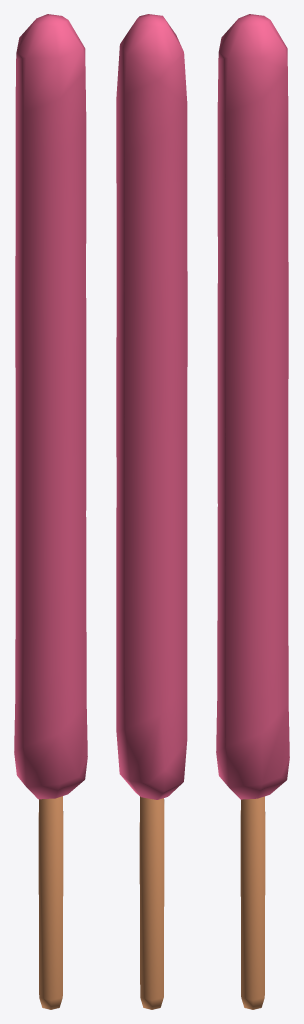
Rendered from candy_assets20.fbx.
The picture shows the model from 3 angles, left to right: view 1: azimuth 90°, elevation 25°; view 2: azimuth 210°, elevation 25°; view 3: azimuth 270°, elevation 25°; orthographic projection.
Parts seen in each view (by area): view 1: candy_assets20; view 2: candy_assets20; view 3: candy_assets20.
Part boxes in pixels (x1=…): candy_assets20: x1=14, y1=14, x2=87, y2=1009; candy_assets20: x1=116, y1=14, x2=187, y2=1009; candy_assets20: x1=216, y1=14, x2=289, y2=1009.
Bounding box in the file's own units: 83.63 × 1275 × 85.88.
Materials: 1 (1 with a texture image).
